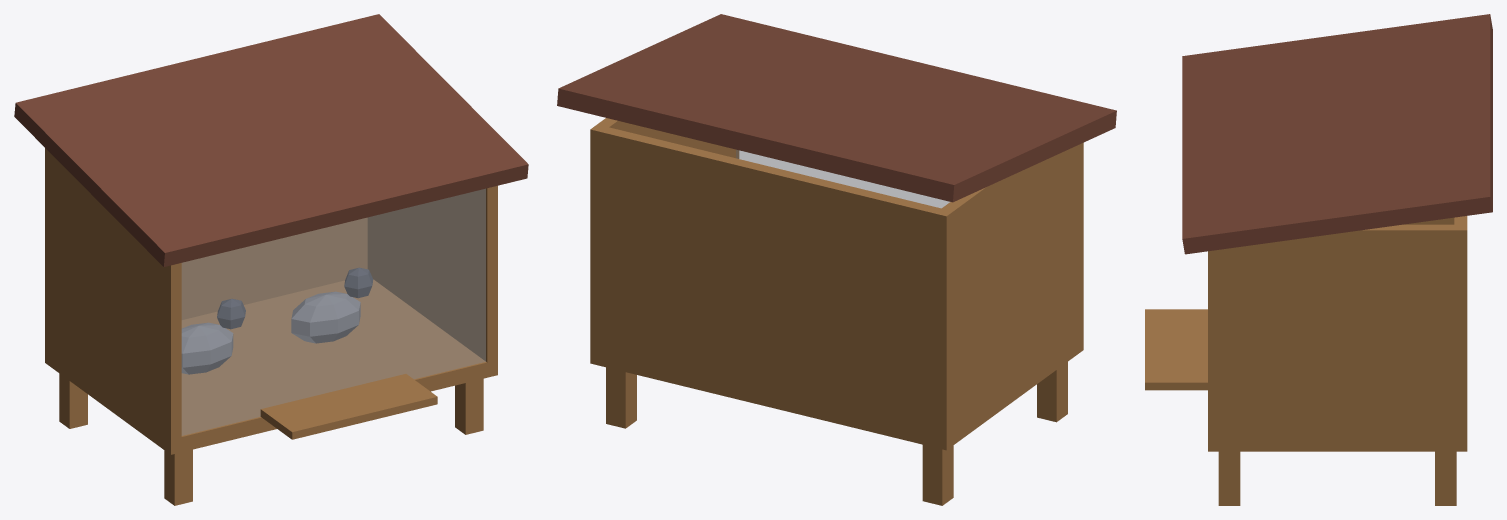
File: pigeon_loft.glb
The picture shows the model from 3 angles, left to right: view 1: azimuth 30°, elevation 25°; view 2: azimuth 150°, elevation 25°; view 3: azimuth 270°, elevation 25°; orthographic projection. The views are drawn at different scales.
Parts seen in each view (by area): view 1: roof_loft_roof, wire_loft_wire, side_loft_wood, floor_loft_wood, back_loft_wood, board_loft_wood, pigeons_pigeon_grey, legs_loft_wood, pigeons_pigeon_dark (×2); view 2: back_loft_wood, roof_loft_roof, side_loft_wood, floor_loft_wood, legs_loft_wood, wire_loft_wire; view 3: roof_loft_roof, side_loft_wood, board_loft_wood, floor_loft_wood, back_loft_wood, legs_loft_wood.
Part boxes in pixels (bbox=[...]): roof_loft_roof: bbox=[14, 14, 528, 266]; wire_loft_wire: bbox=[181, 188, 485, 435]; side_loft_wood: bbox=[45, 148, 497, 448]; floor_loft_wood: bbox=[45, 279, 497, 454]; back_loft_wood: bbox=[45, 148, 367, 361]; board_loft_wood: bbox=[260, 374, 437, 439]; pigeons_pigeon_grey: bbox=[181, 291, 360, 374]; legs_loft_wood: bbox=[59, 373, 483, 505]; pigeons_pigeon_dark (×2): bbox=[217, 267, 373, 329]; back_loft_wood: bbox=[590, 125, 953, 443]; roof_loft_roof: bbox=[557, 14, 1116, 202]; side_loft_wood: bbox=[590, 118, 1083, 443]; floor_loft_wood: bbox=[590, 335, 1083, 450]; legs_loft_wood: bbox=[606, 362, 1067, 505]; wire_loft_wire: bbox=[736, 149, 949, 207]; roof_loft_roof: bbox=[1182, 14, 1492, 254]; side_loft_wood: bbox=[1208, 217, 1467, 445]; board_loft_wood: bbox=[1145, 309, 1207, 390]; floor_loft_wood: bbox=[1208, 436, 1467, 451]; back_loft_wood: bbox=[1454, 216, 1467, 439]; legs_loft_wood: bbox=[1218, 451, 1456, 505].
Size of the model in its own units: 1 by 0.8236 by 0.8039.
